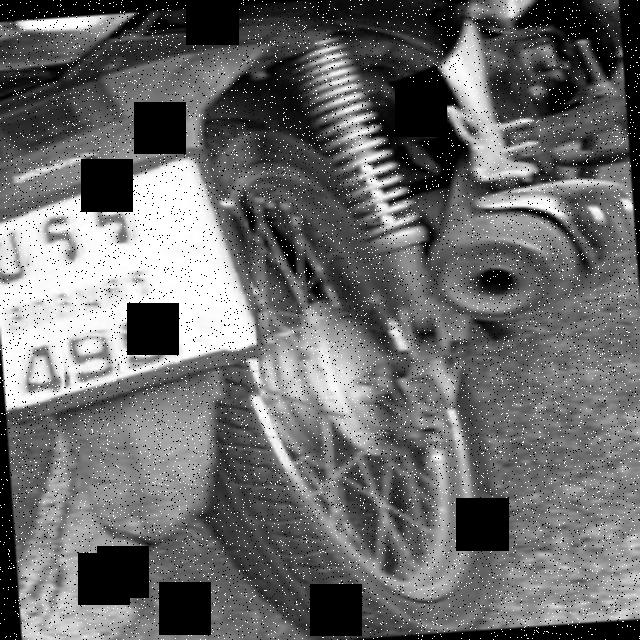letters: (115, 310, 177, 371), (12, 334, 66, 396), (66, 328, 120, 382), (30, 210, 74, 266), (94, 192, 134, 245), (0, 227, 29, 283)
license-plate: (0, 153, 257, 417)
province: (0, 258, 159, 340)
